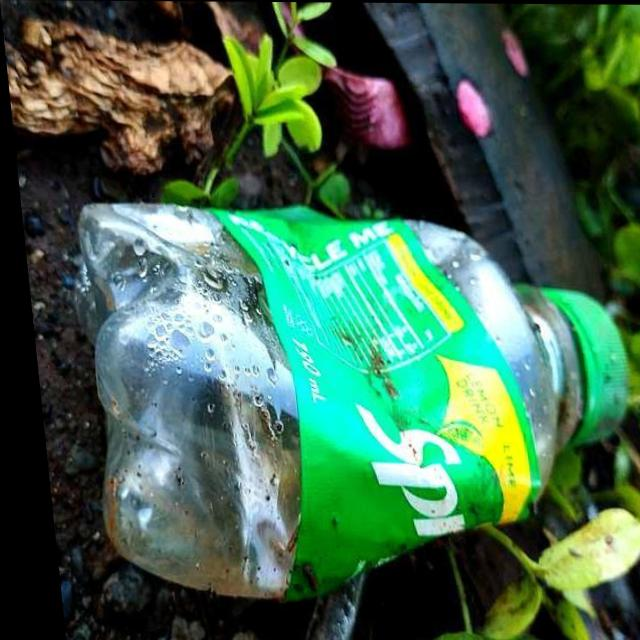Non-biodegradable: (60, 203, 640, 601)
